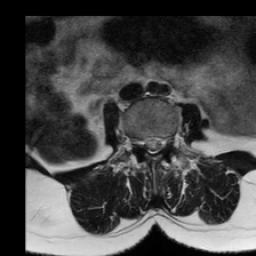CCS_normal: (148, 129, 155, 162)
LFS_stenosis: (163, 125, 174, 151)
LLS_normal: (155, 129, 163, 157)
RFS_normal: (135, 129, 142, 151)
RLS_normal: (142, 129, 148, 156)
